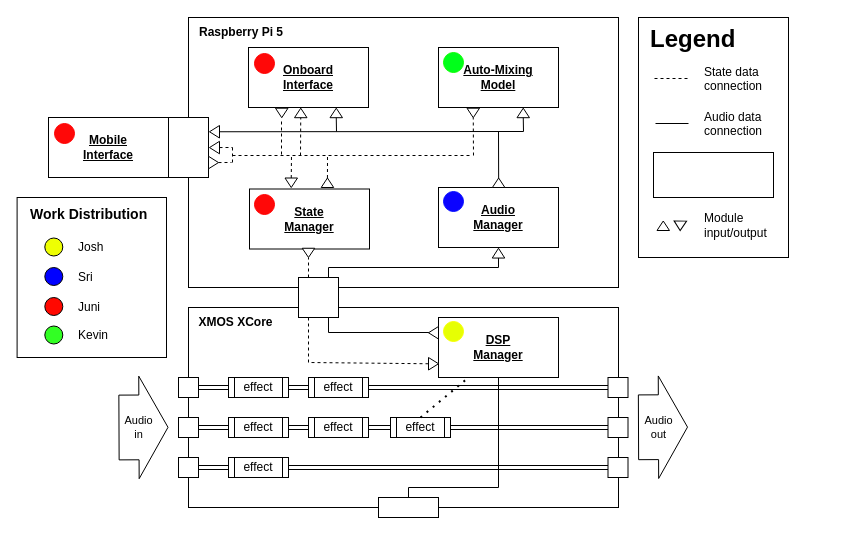
Some shapes in this 846 by 535 pixel diagram are drawn without their labels. The shapes that lost their labels are listed below. From the top down, each one's centre as x and y in pixels, then its label:
the point at 188,147: WiFi
the point at 713,175: System module
the point at 318,297: SPI
the point at 408,507: USB
